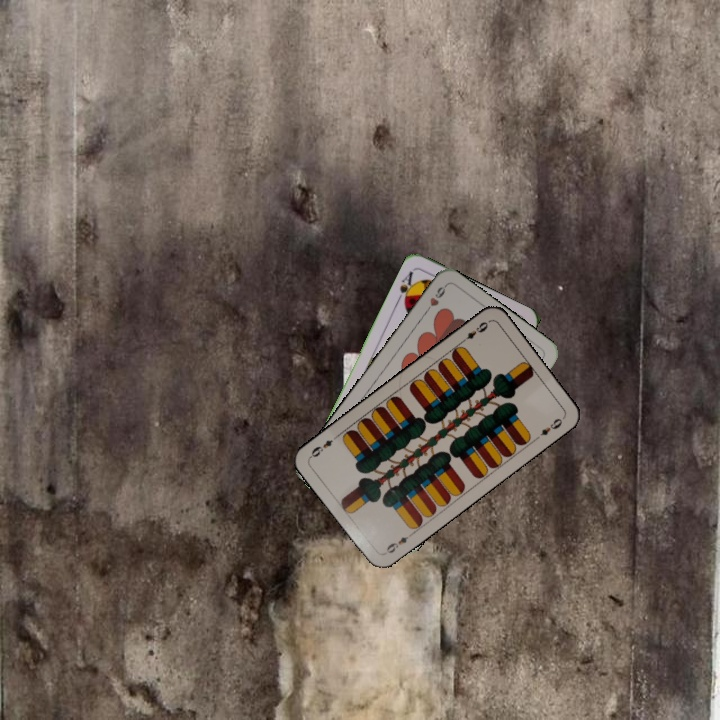E9: (457, 317, 492, 346), (380, 529, 415, 557)
H9: (420, 281, 449, 317)
SA: (393, 267, 419, 307)
